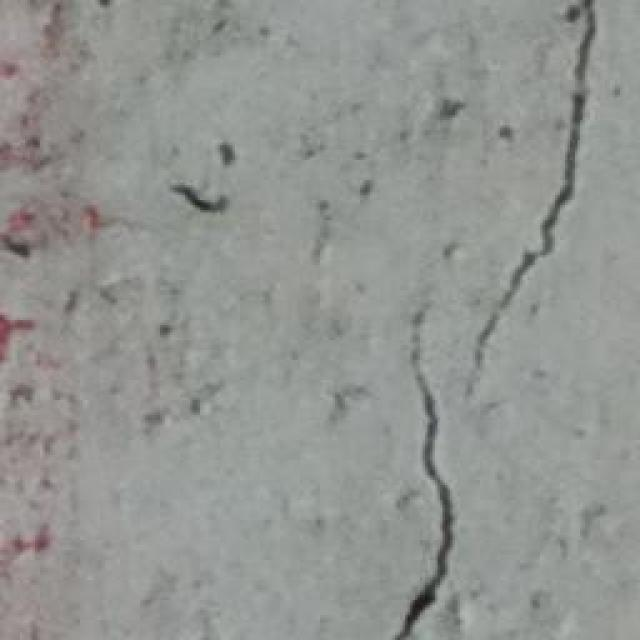Diagonal: (461, 0, 597, 383)
Longitudinal: (375, 305, 450, 640)
Rippled: (0, 8, 359, 640)
